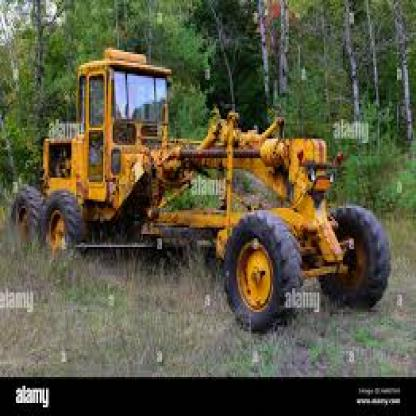bull_dozer/loader/grader: (10, 30, 388, 334)
